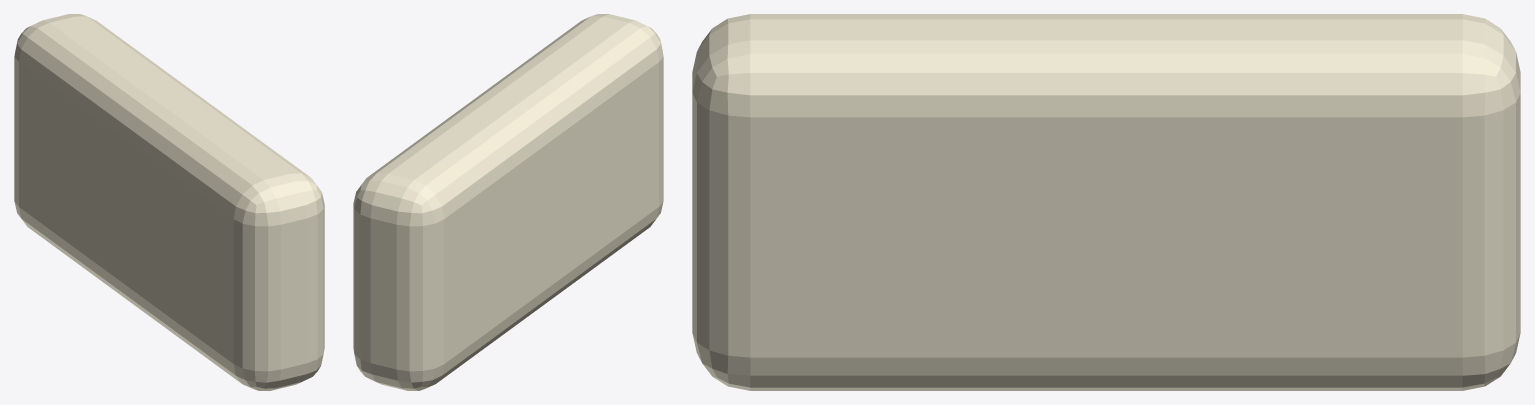
File: AFJ_Modular_Gate_Straight_End.fbx
3 views of the same model, side by side, from view 1: azimuth 30°, elevation 25°; view 2: azimuth 150°, elevation 25°; view 3: azimuth 270°, elevation 25° (orthographic). The views are drawn at different scales.
Visible parts, largest first — view 1: Gate_Straight_End_Trim; view 2: Gate_Straight_End_Trim; view 3: Gate_Straight_End_Trim.
Part boxes in pixels (x1=…): Gate_Straight_End_Trim: x1=14, y1=14, x2=324, y2=390; Gate_Straight_End_Trim: x1=353, y1=14, x2=663, y2=390; Gate_Straight_End_Trim: x1=692, y1=14, x2=1520, y2=390.
Bounding box in the file's own units: 10 × 23 × 50.
